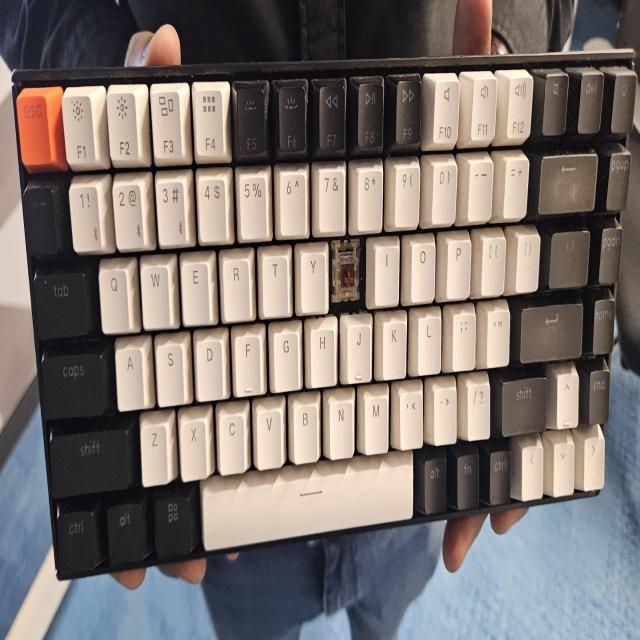C: (330, 243, 365, 306)
